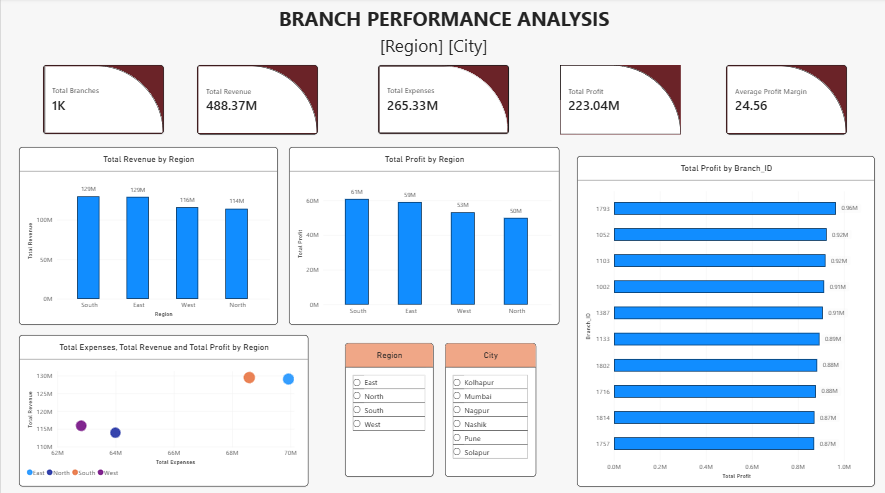

This screenshot's page, from the dashboard's own definition file:
{"tool":"powerbi","page":{"name":"Branch Performance Analysis","canvas":[1920,1080],"ordinal":3},"visuals":[{"type":"textbox","box":[10.8,15.1,1892.2,58.3],"z":0},{"type":"textbox","box":[11.4,75,1847.7,70.5],"z":1000},{"type":"cardVisual","fields":{"Data":["bank_data.Total Branches"]},"box":[90.9,145.5,261.4,149],"z":2000},{"type":"cardVisual","fields":{"Data":["bank_data.Total Revenue"]},"box":[422.7,145.5,261,150],"z":3000},{"type":"cardVisual","fields":{"Data":["bank_data.Total Expenses"]},"box":[813.6,145.5,283,149],"z":4000},{"type":"cardVisual","fields":{"Data":["bank_data.Total Profit"]},"box":[1206.8,145.5,261,150],"z":5000},{"type":"cardVisual","fields":{"Data":["bank_data.Average Profit Margin"]},"box":[1565.9,145.5,261,150],"z":6000},{"type":"listSlicer","fields":{"Values":["bank_data.Region"]},"box":[743,745.2,190.9,288.6],"z":7000},{"type":"listSlicer","fields":{"Values":["bank_data.City"]},"box":[959,745.2,196.6,289.4],"z":8000},{"type":"clusteredColumnChart","fields":{"Category":["bank_data.Region"],"Y":["bank_data.Total Revenue"]},"box":[38.6,322.7,559.1,384.1],"z":9000},{"type":"clusteredColumnChart","fields":{"Category":["bank_data.Region"],"Y":["bank_data.Total Profit"]},"box":[622.7,322.7,584.1,384.1],"z":10000},{"type":"clusteredBarChart","fields":{"Category":["bank_data.Branch_ID"],"Y":["bank_data.Total Profit"]},"box":[1243.2,340.9,643.2,713.6],"z":11000},{"type":"scatterChart","fields":{"Series":["bank_data.Region"],"Size":["bank_data.Total Profit"],"X":["bank_data.Total Expenses"],"Y":["bank_data.Total Revenue"]},"box":[38.6,727.3,625,327.3],"z":12000}]}

Visuals, with their boxes in screenshot pixels (x1, y1, x2, y2), scaled from the page's 1920x1080 canvas onto the 885x493 screenshot:
textbox: <region>5, 7, 877, 34</region>
textbox: <region>5, 34, 857, 66</region>
cardVisual - bank_data.Total Branches: <region>42, 66, 162, 134</region>
cardVisual - bank_data.Total Revenue: <region>195, 66, 315, 135</region>
cardVisual - bank_data.Total Expenses: <region>375, 66, 505, 134</region>
cardVisual - bank_data.Total Profit: <region>556, 66, 677, 135</region>
cardVisual - bank_data.Average Profit Margin: <region>722, 66, 842, 135</region>
listSlicer - bank_data.Region: <region>342, 340, 430, 472</region>
listSlicer - bank_data.City: <region>442, 340, 533, 472</region>
clusteredColumnChart - bank_data.Region x bank_data.Total Revenue: <region>18, 147, 276, 323</region>
clusteredColumnChart - bank_data.Region x bank_data.Total Profit: <region>287, 147, 556, 323</region>
clusteredBarChart - bank_data.Branch_ID x bank_data.Total Profit: <region>573, 156, 870, 481</region>
scatterChart - bank_data.Region x bank_data.Total Profit: <region>18, 332, 306, 481</region>
